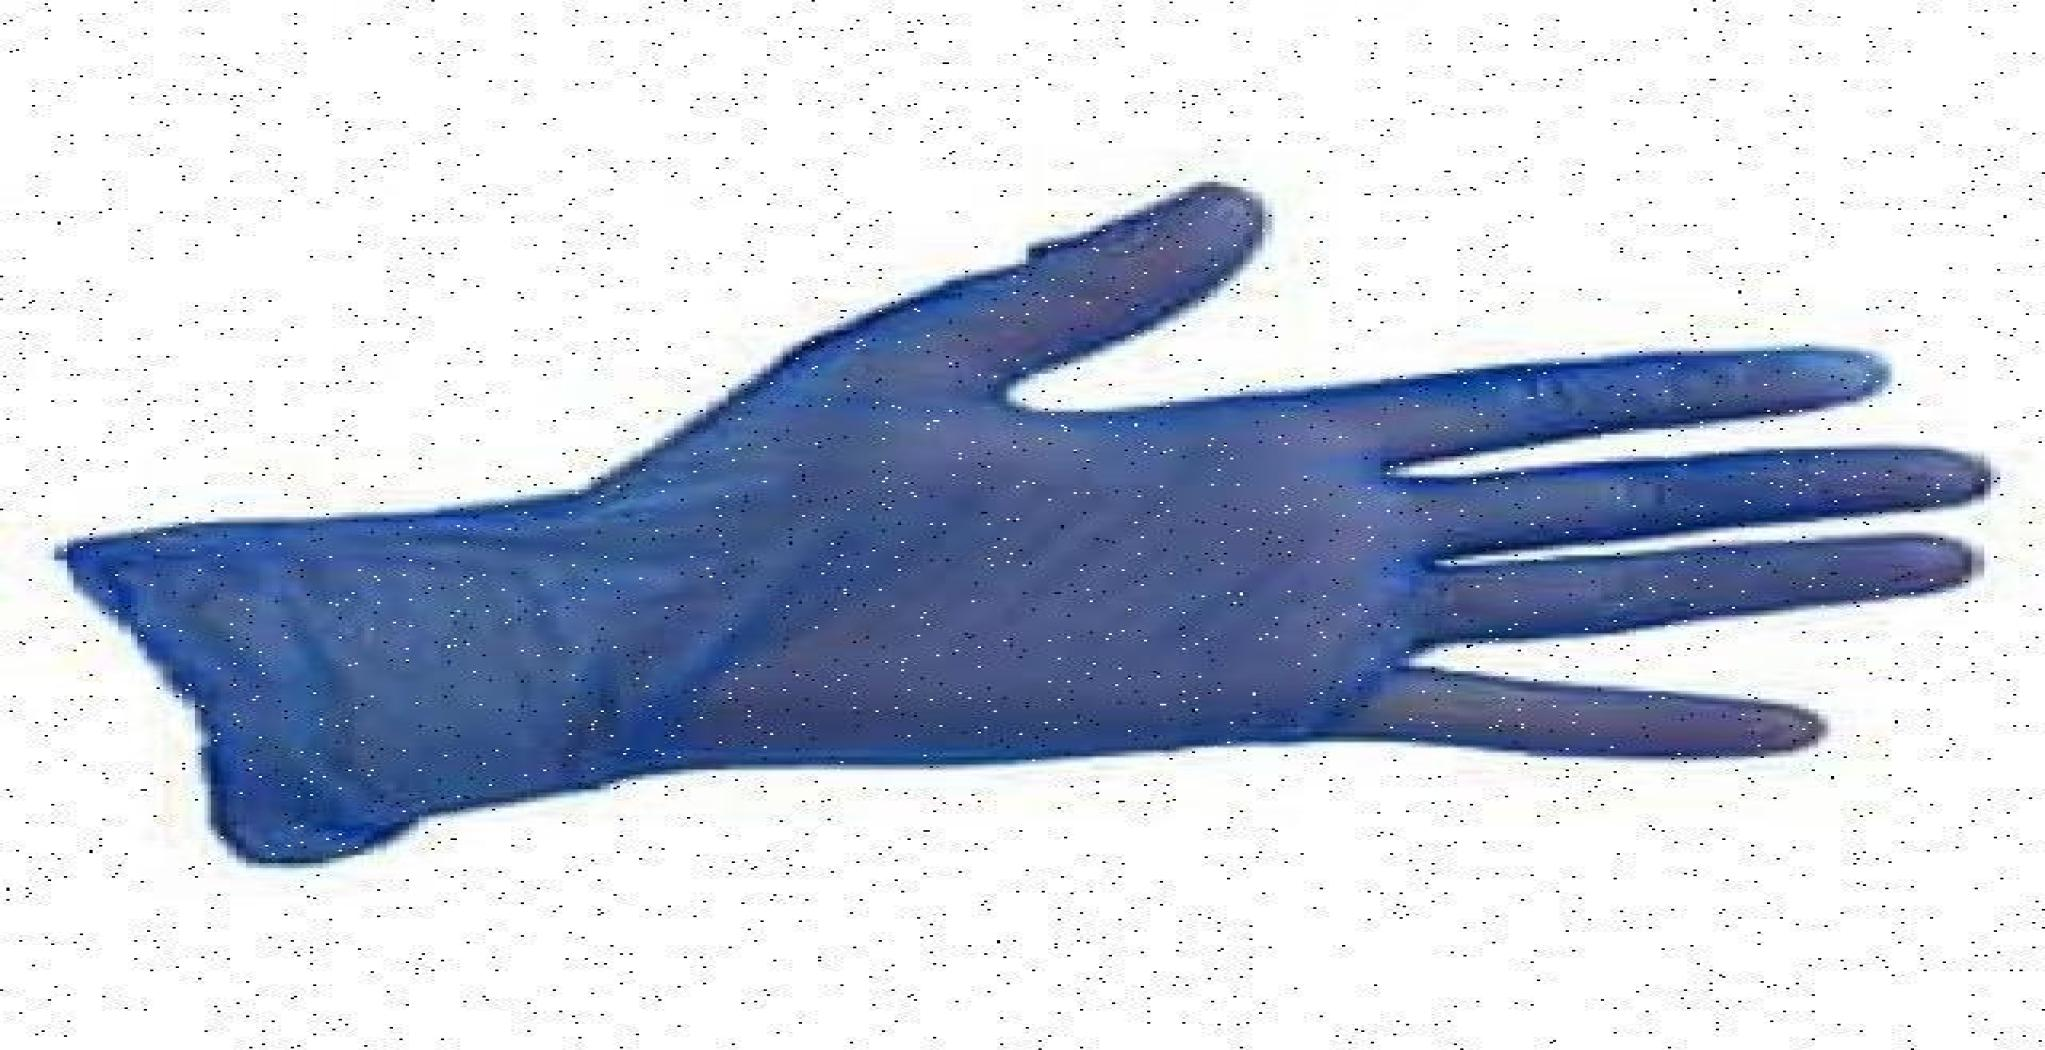gloved: (51, 181, 1997, 864)
